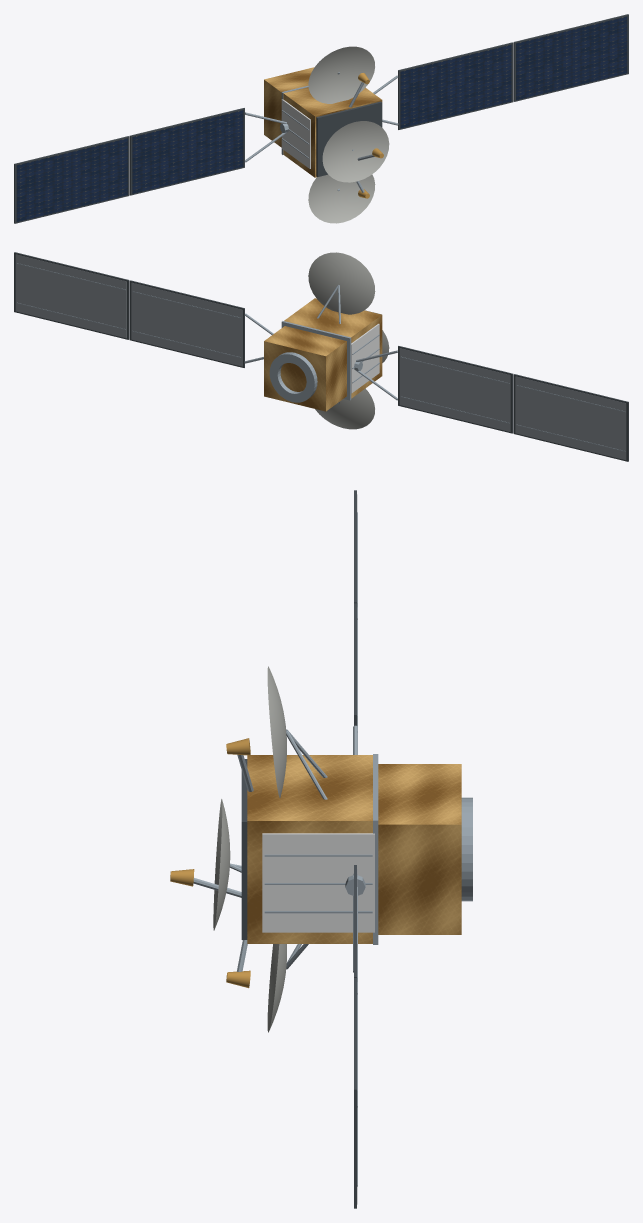
Rendered from arsat-three-reflector.glb.
3 views of the same model, one above another, from view 1: azimuth 30°, elevation 25°; view 2: azimuth 150°, elevation 25°; view 3: azimuth 270°, elevation 25° (orthographic). The views are drawn at different scales.
Visible parts, largest first — view 1: Solar cell panel (×4), Communications reflector (×2), Solar panel frame (×4), Deck-mounted reflector, Payload module, Earth-facing deck, Service module, Radiator face; view 2: Rear array substrate (×4), Service module, Communications reflector (×2), Solar panel frame (×4), Payload module, Launch adapter ring, Radiator face, Module interface; view 3: Service module, Payload module, Radiator face, Communications reflector (×2), Deck-mounted reflector, Launch adapter ring, Earth-facing deck.
Boxes of the visible parts, x1,y1,x2,y2 form: Solar cell panel (×4): (16, 16, 627, 221); Communications reflector (×2): (308, 46, 375, 223); Solar panel frame (×4): (14, 14, 628, 223); Deck-mounted reflector: (322, 121, 389, 182); Payload module: (283, 87, 382, 177); Earth-facing deck: (316, 101, 382, 176); Service module: (264, 67, 314, 147); Radiator face: (281, 99, 310, 168); Rear array substrate (×4): (15, 254, 626, 459); Service module: (264, 326, 346, 411); Communications reflector (×2): (308, 252, 375, 429); Solar panel frame (×4): (14, 252, 628, 461); Payload module: (284, 298, 382, 398); Launch adapter ring: (269, 352, 317, 402); Radiator face: (351, 323, 379, 393); Module interface: (281, 321, 351, 400); Service module: (378, 764, 461, 934); Payload module: (247, 755, 372, 943); Radiator face: (262, 833, 374, 932); Communications reflector (×2): (267, 666, 286, 1032); Deck-mounted reflector: (213, 799, 230, 930); Launch adapter ring: (461, 797, 472, 901); Earth-facing deck: (241, 759, 247, 939).
Size of the model in its own units: 16.39 by 4.46 by 3.5.
Materials: 8 (2 with a texture image).
